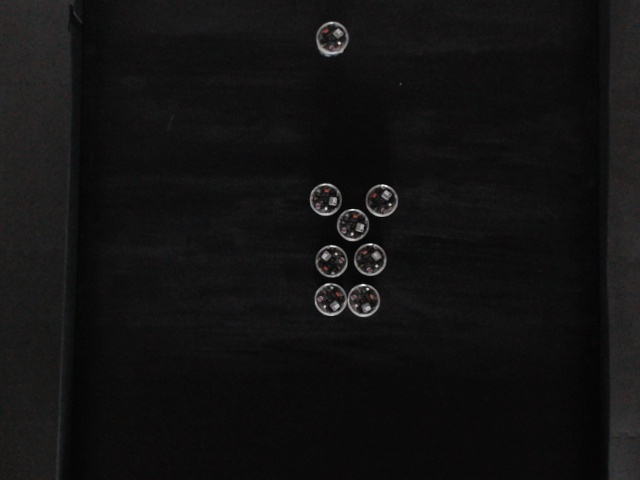epuck_2: (314, 20, 350, 58), (314, 282, 347, 317), (348, 283, 381, 318), (309, 182, 342, 216), (353, 243, 387, 276), (366, 184, 399, 217), (337, 209, 369, 242), (315, 245, 348, 277)
